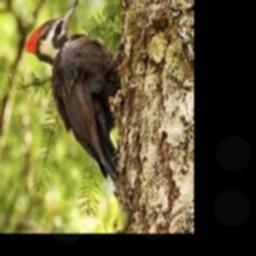Woodpecker: (26, 0, 121, 183)
